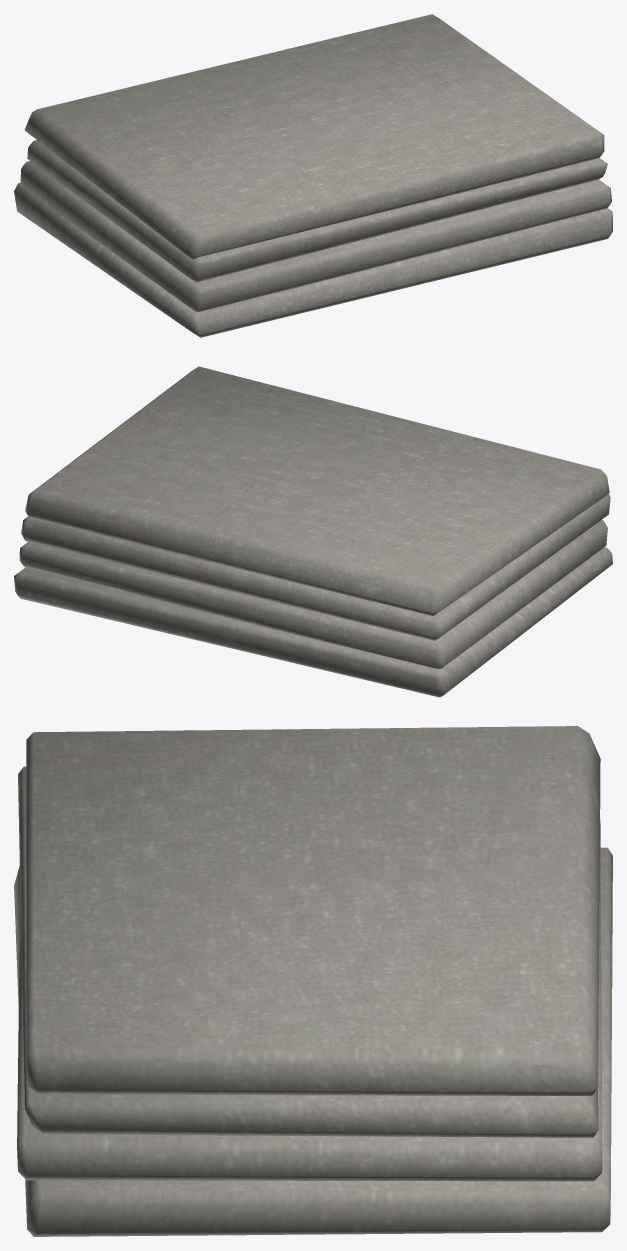
The model's file is kit_sr_blanket_p.glb.
The picture shows the model from 3 angles, top to bottom: view 1: azimuth 30°, elevation 25°; view 2: azimuth 150°, elevation 25°; view 3: azimuth 270°, elevation 25°; orthographic projection. The views are drawn at different scales.
Visible parts, largest first — view 1: kit_sr_blanket_p; view 2: kit_sr_blanket_p; view 3: kit_sr_blanket_p.
Boxes of the visible parts, x1,y1,x2,y2 form: kit_sr_blanket_p: (14,14,612,337); kit_sr_blanket_p: (14,366,612,697); kit_sr_blanket_p: (14,726,612,1236).
Bounding box in the file's own units: 0.5062 × 0.1229 × 0.3675.
1 material, 1 textured.
